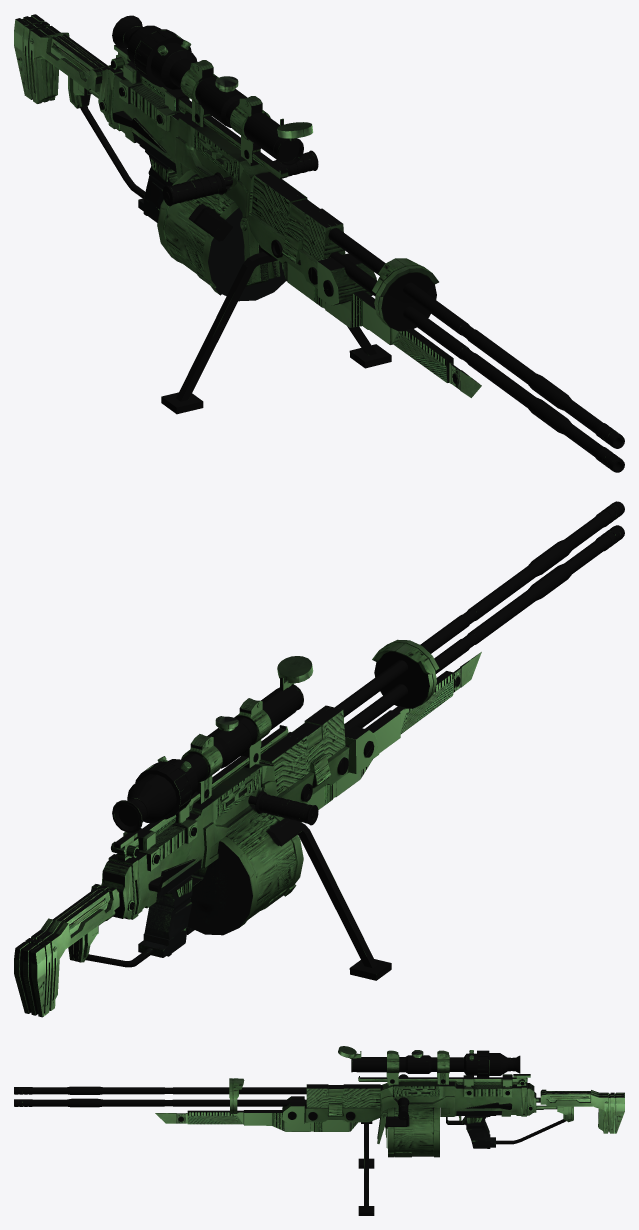
Rendered from пушка.fbx.
The picture shows the model from 3 angles, top to bottom: view 1: azimuth 30°, elevation 25°; view 2: azimuth 150°, elevation 25°; view 3: azimuth 270°, elevation 25°; orthographic projection. The views are drawn at different scales.
Visible parts, largest first — view 1: lol, lol.001; view 2: lol, lol.001; view 3: lol, lol.001.
Boxes of the visible parts, x1,y1,x2,y2 form: lol: (14,14,624,472); lol.001: (161,247,391,414); lol: (14,501,624,1017); lol.001: (186,820,391,980); lol: (14,1046,624,1157); lol.001: (358,1121,374,1215).
Size of the model in its own units: 39.63 by 48.1 by 189.
Materials: 1 (1 with a texture image).
